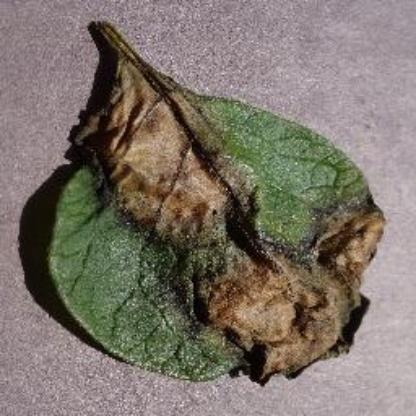Late-Blight: (41, 15, 391, 387)
